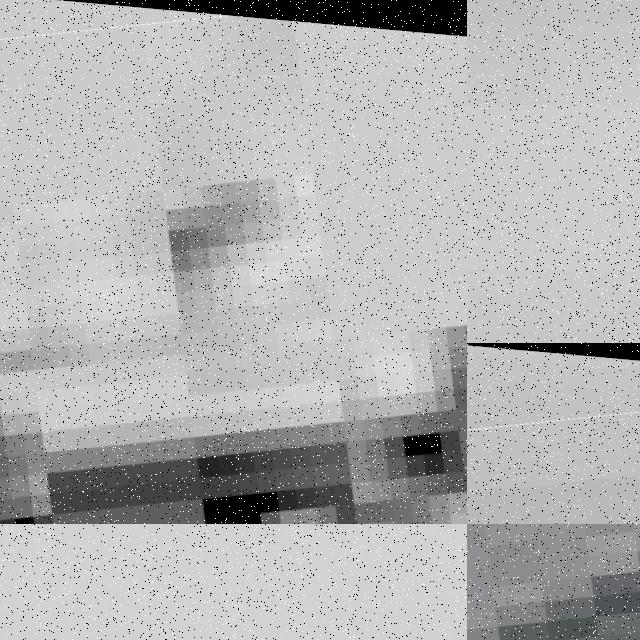0: (0, 0, 467, 524), (467, 343, 640, 524)
drone: (467, 524, 640, 640)
